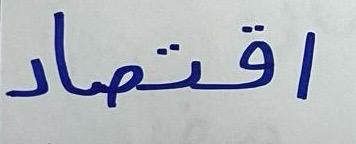alef: (50, 6, 81, 108)
lam: (8, 51, 48, 104)
noon: (146, 28, 214, 99)
qaf: (217, 14, 284, 97)
reh: (293, 21, 320, 105)
sad: (84, 56, 144, 114)
